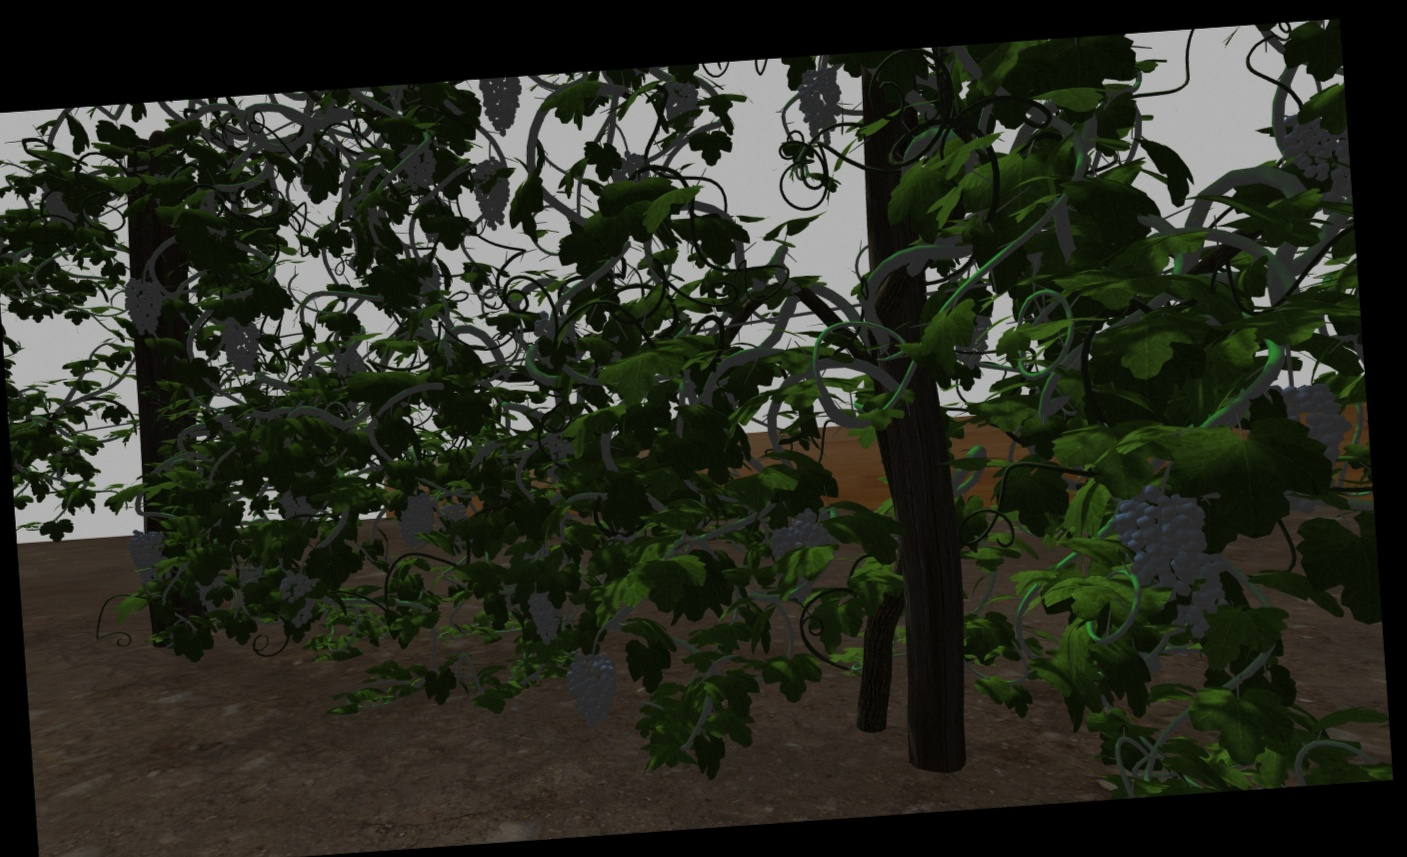grape: (1118, 482, 1175, 590), (1283, 380, 1351, 462), (773, 509, 834, 600), (1167, 489, 1207, 598), (1178, 553, 1225, 638), (568, 645, 616, 726), (794, 66, 843, 144), (1285, 117, 1334, 180), (472, 155, 511, 231), (219, 314, 261, 377), (122, 275, 164, 335), (480, 81, 524, 138), (662, 74, 700, 136), (396, 490, 435, 549), (126, 527, 166, 583), (279, 567, 314, 627), (529, 587, 564, 645), (401, 139, 437, 190)
